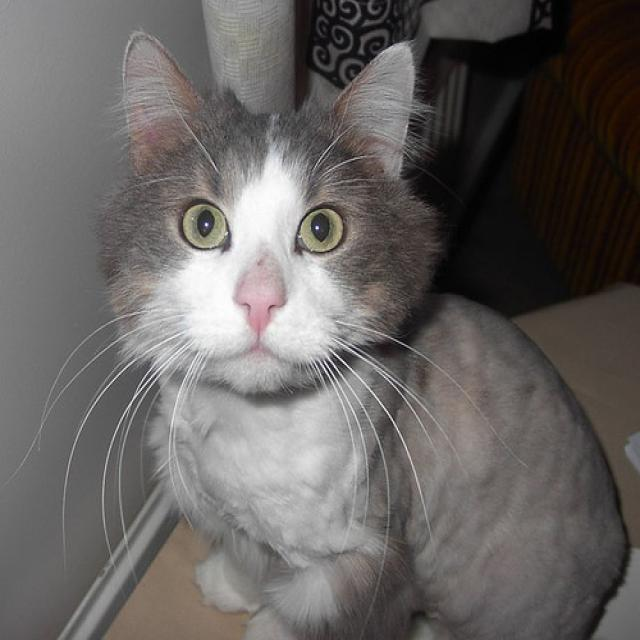left eye: (294, 202, 347, 255)
